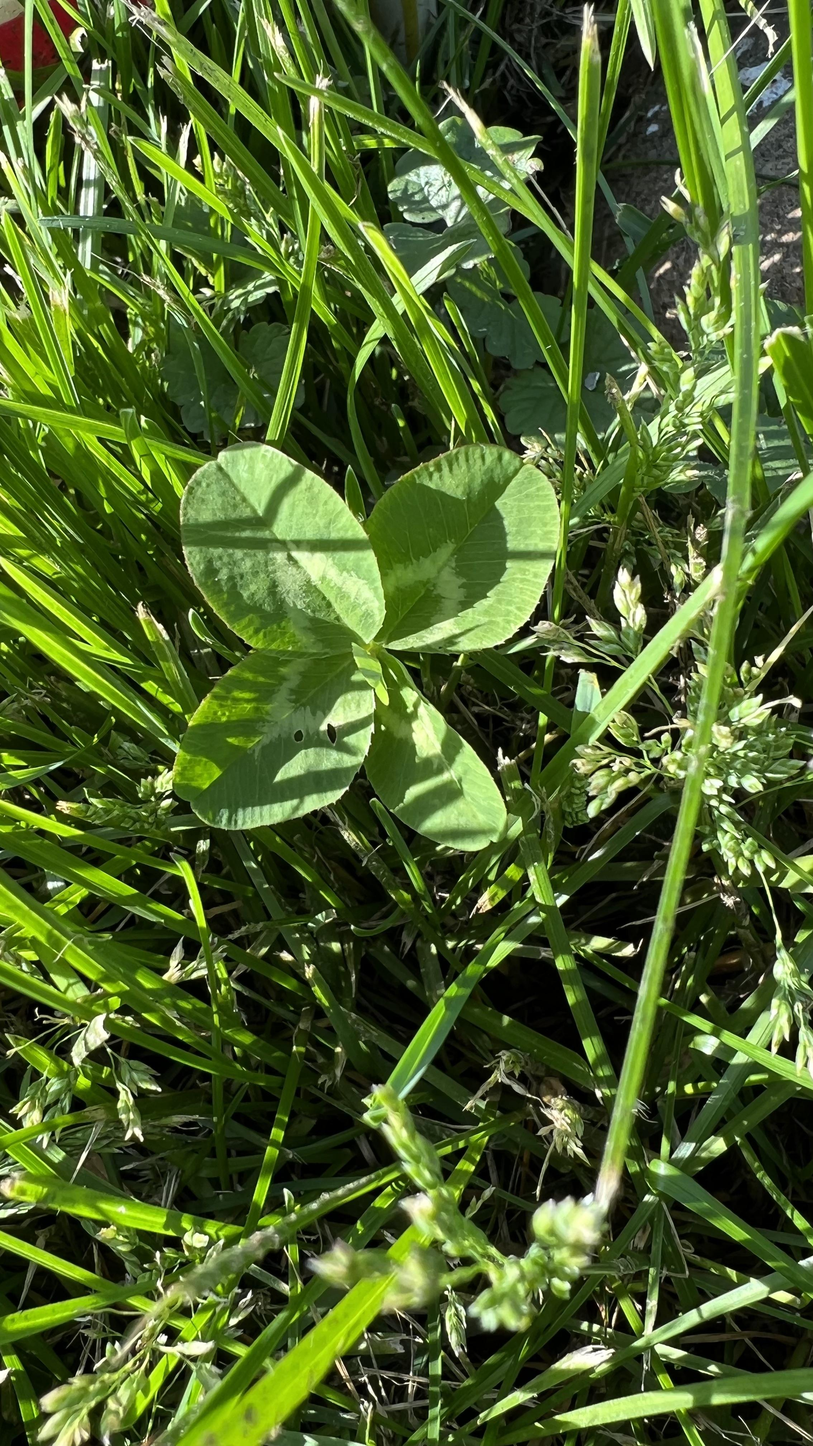4-Leaf-Clovers: (162, 436, 569, 837)
